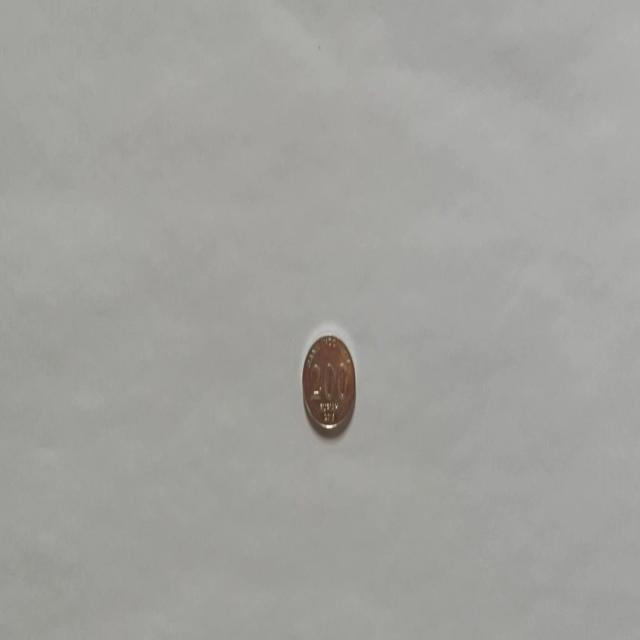dua ratus rupiah: (300, 332, 356, 434)
